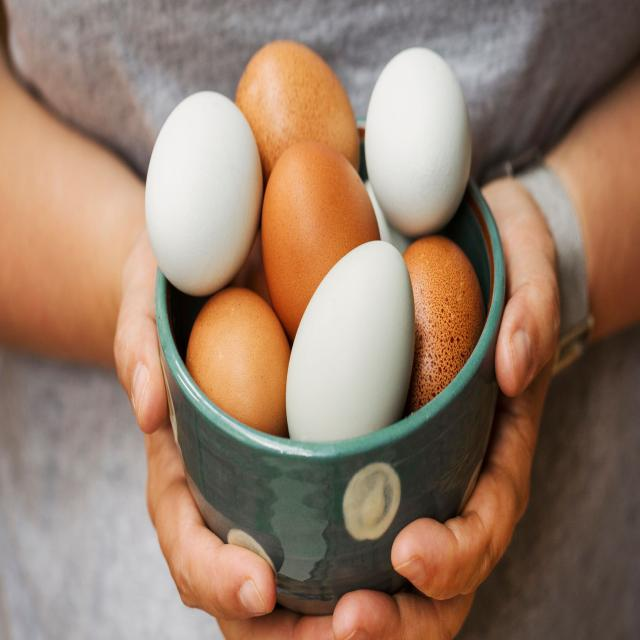huevos: (140, 88, 266, 298)
